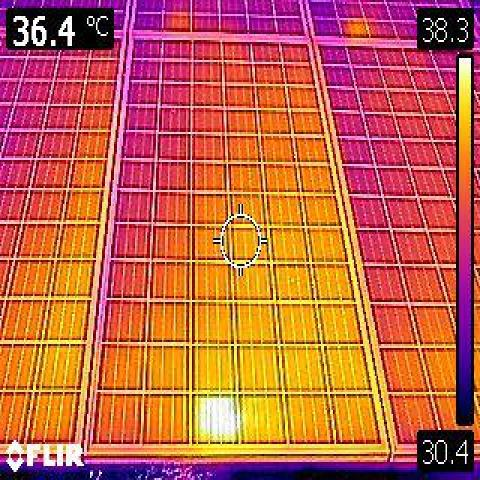fault: (194, 395, 237, 440)
